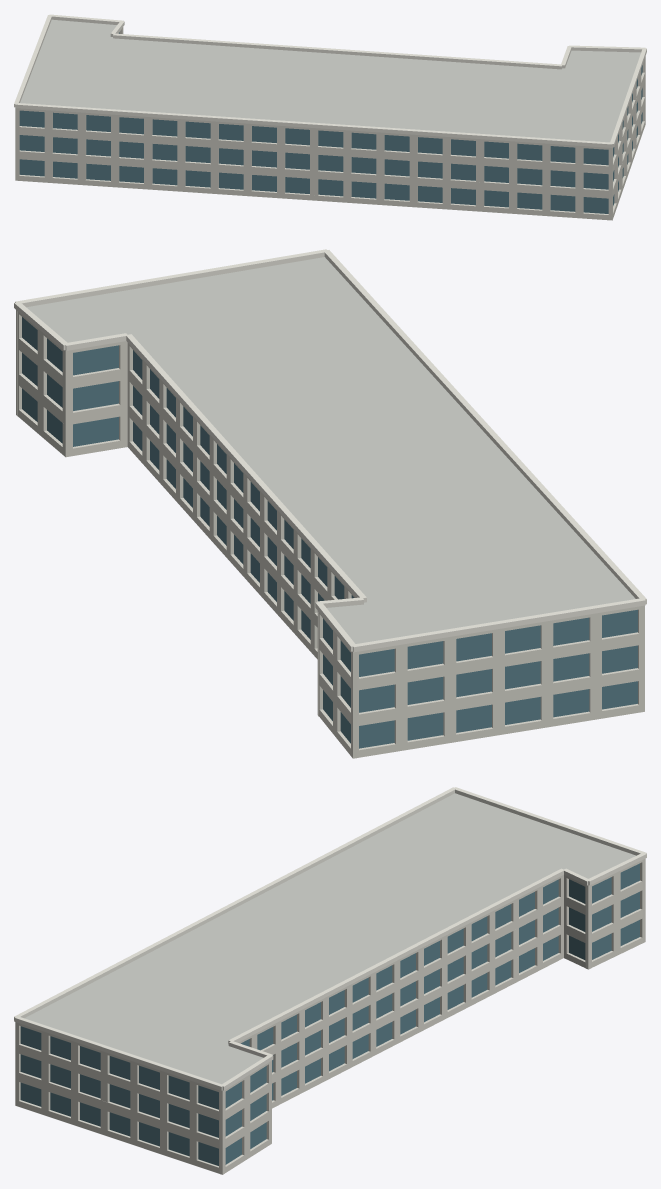
The model's file is sb_1556523924.far.glb.
The picture shows the model from 3 angles, top to bottom: view 1: azimuth 30°, elevation 25°; view 2: azimuth 150°, elevation 25°; view 3: azimuth 270°, elevation 25°; orthographic projection. The views are drawn at different scales.
Parts seen in each view (by area): view 1: roof, wall, glass, trim; view 2: roof, wall, glass, trim; view 3: roof, wall, glass, trim.
Part boxes in pixels (box(x1,y1,x2,y2)): roof: box(20, 19, 640, 142); wall: box(15, 27, 645, 220); glass: box(19, 32, 642, 213); trim: box(14, 14, 646, 147); roof: box(26, 257, 635, 643); wall: box(16, 310, 644, 758); glass: box(22, 317, 637, 748); trim: box(14, 249, 646, 652); roof: box(24, 793, 635, 1084); wall: box(15, 858, 645, 1174); glass: box(20, 863, 639, 1165); trim: box(14, 787, 646, 1090).
Size of the model in its own units: 70.72 by 9.74 by 63.09.
